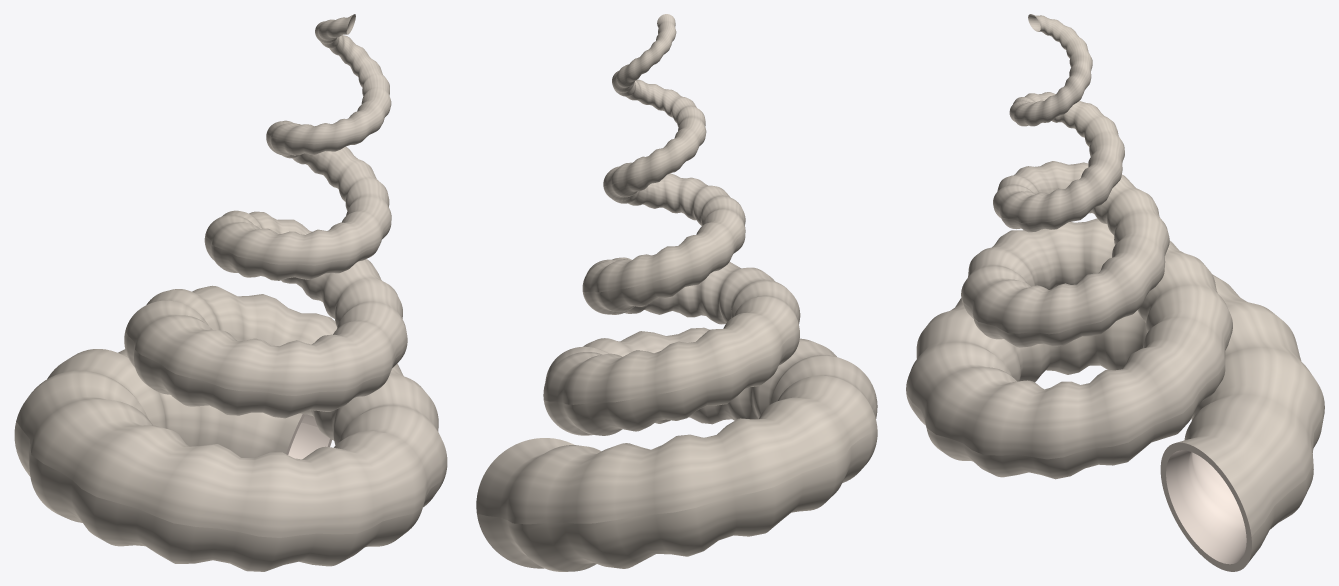
File: wentletrap.glb
The picture shows the model from 3 angles, left to right: view 1: azimuth 30°, elevation 25°; view 2: azimuth 150°, elevation 25°; view 3: azimuth 270°, elevation 25°; orthographic projection. The views are drawn at different scales.
Visible parts, largest first — view 1: wentletrap; view 2: wentletrap; view 3: wentletrap.
Part boxes in pixels (x1,y1,x2,y2): wentletrap: [14, 14, 447, 571]; wentletrap: [476, 14, 877, 571]; wentletrap: [906, 14, 1324, 571].
Bounding box in the file's own units: 1.38 × 2.13 × 1.51.
